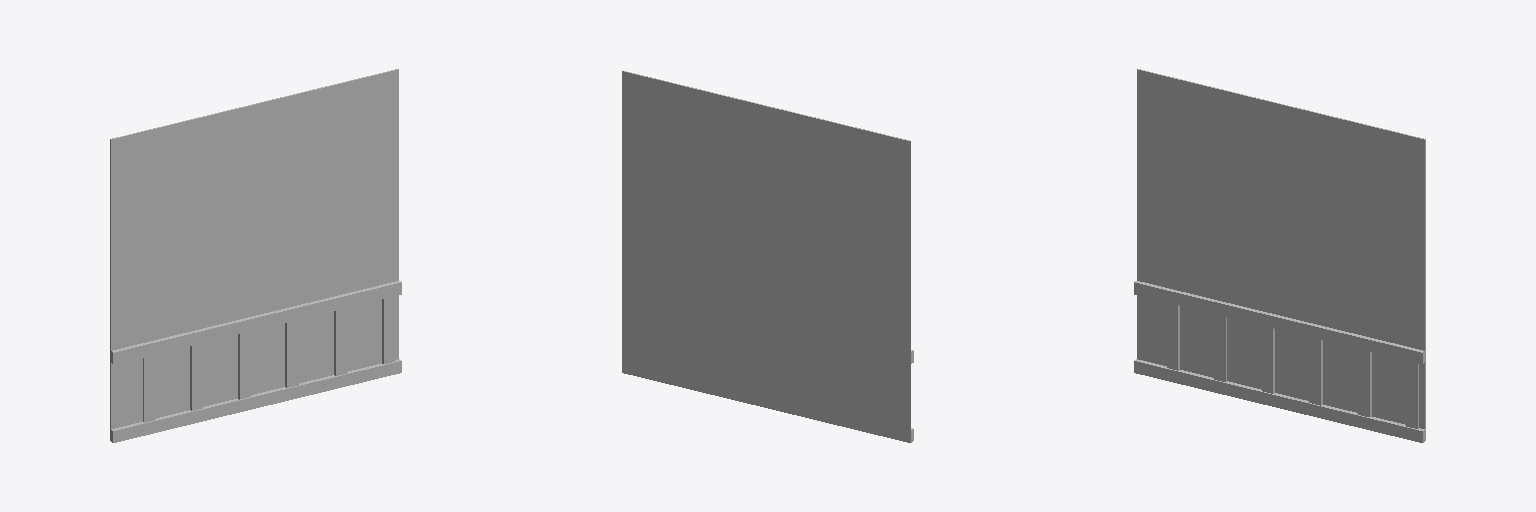
Rendered from Wall2.obj.
3 renders of one model, left to right at view 1: azimuth 30°, elevation 25°; view 2: azimuth 150°, elevation 25°; view 3: azimuth 330°, elevation 25°, orthographic.
Visible parts, largest first — view 1: object 1; view 2: object 1; view 3: object 1.
Part boxes in pixels (left/top/right/bottom): object 1: left=110, top=69, right=401, bottom=442; object 1: left=622, top=71, right=913, bottom=442; object 1: left=1134, top=69, right=1425, bottom=442.
Bounding box in the file's own units: 20 × 20 × 0.4.